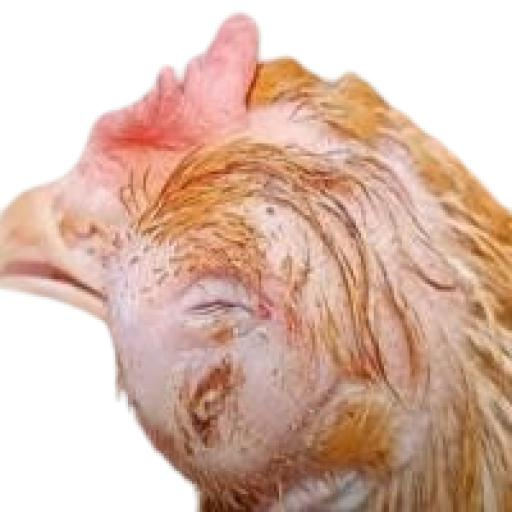disease: (116, 174, 342, 463)
